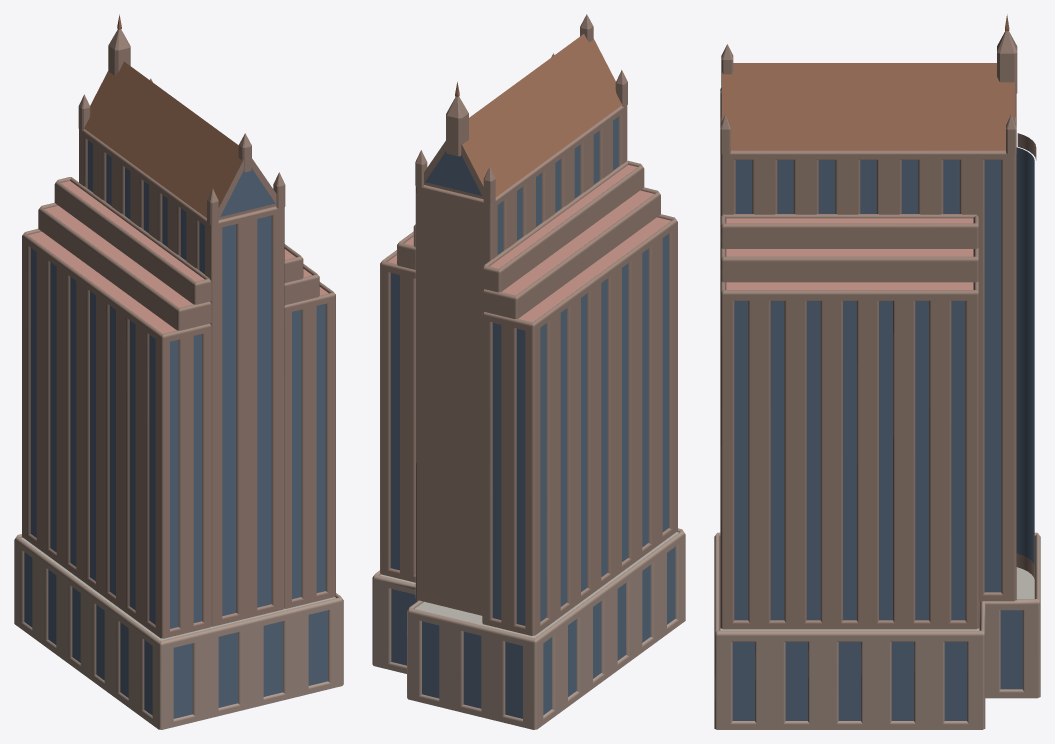
Rendered from carillon-charlotte.glb.
The picture shows the model from 3 angles, left to right: view 1: azimuth 30°, elevation 25°; view 2: azimuth 150°, elevation 25°; view 3: azimuth 270°, elevation 25°; orthographic projection. The views are drawn at different scales.
Visible parts, largest first — view 1: The Carillon; view 2: The Carillon; view 3: The Carillon.
Boxes of the visible parts, x1,y1,x2,y2 form: The Carillon: [14, 14, 343, 729]; The Carillon: [372, 14, 685, 729]; The Carillon: [714, 14, 1040, 729].
Size of the model in its own units: 39.5 by 122 by 54.3.
